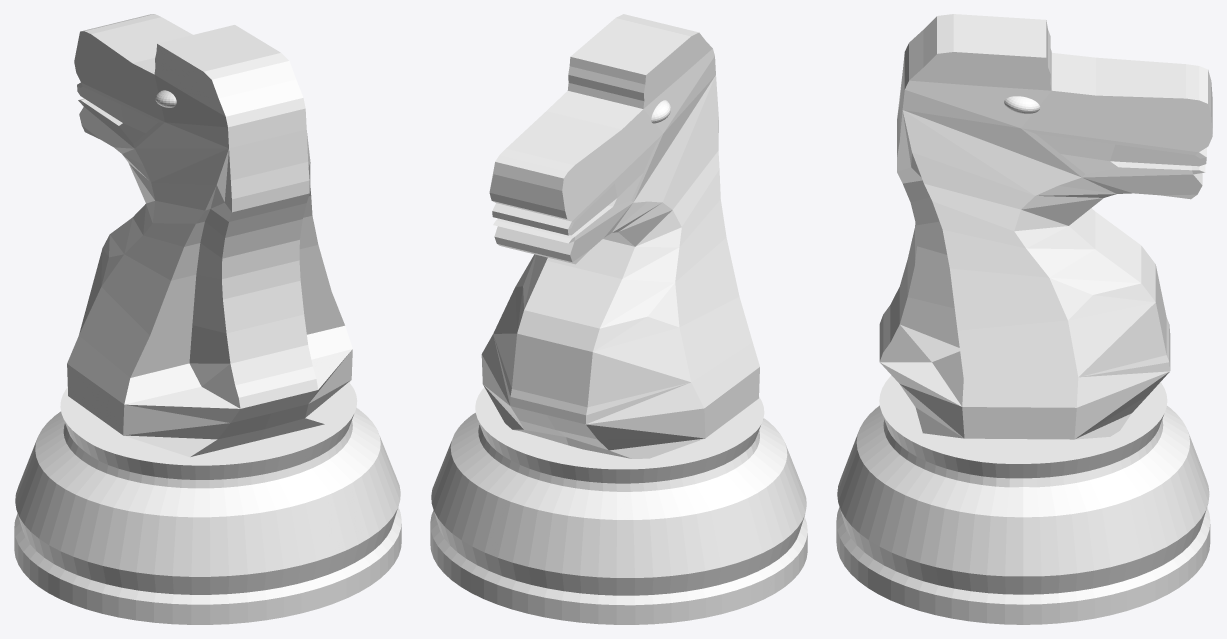
Rendered from KnightW2.glb.
The picture shows the model from 3 angles, left to right: view 1: azimuth 30°, elevation 25°; view 2: azimuth 150°, elevation 25°; view 3: azimuth 270°, elevation 25°; orthographic projection. The views are drawn at different scales.
Parts seen in each view (by area): view 1: RookA8.001; view 2: RookA8.001; view 3: RookA8.001.
Part boxes in pixels (x1,y1,x2,y2): RookA8.001: (14, 14, 401, 624); RookA8.001: (430, 14, 807, 624); RookA8.001: (836, 14, 1212, 624).
Size of the model in its own units: 1.05 by 1.5 by 1.
Materials: 1 (1 with a texture image).
